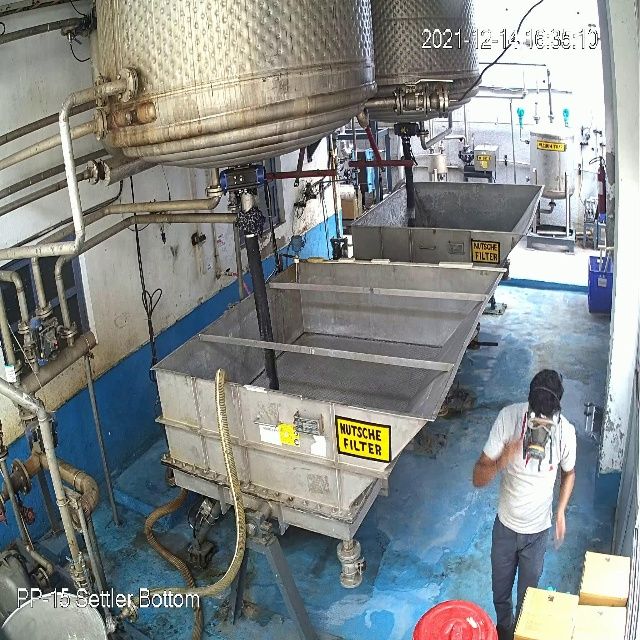Gafas: (523, 410, 557, 438)
Mascara: (527, 424, 553, 464)
